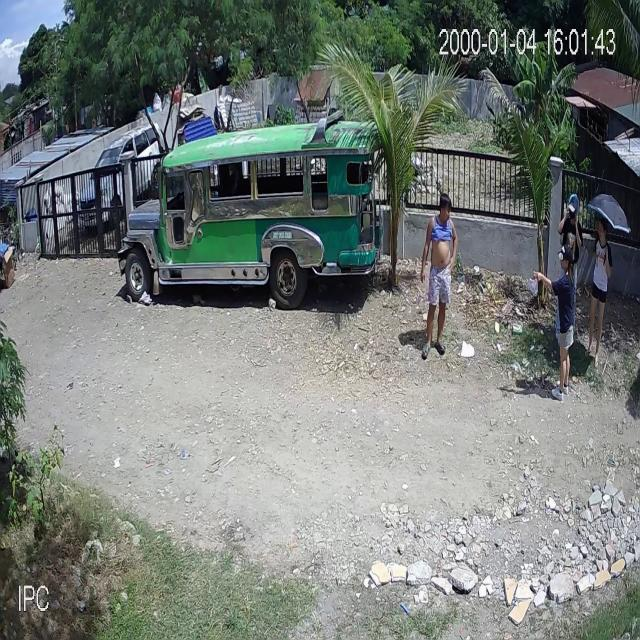standing: (532, 243, 578, 403), (421, 194, 459, 364), (554, 190, 586, 340), (585, 215, 611, 368)
